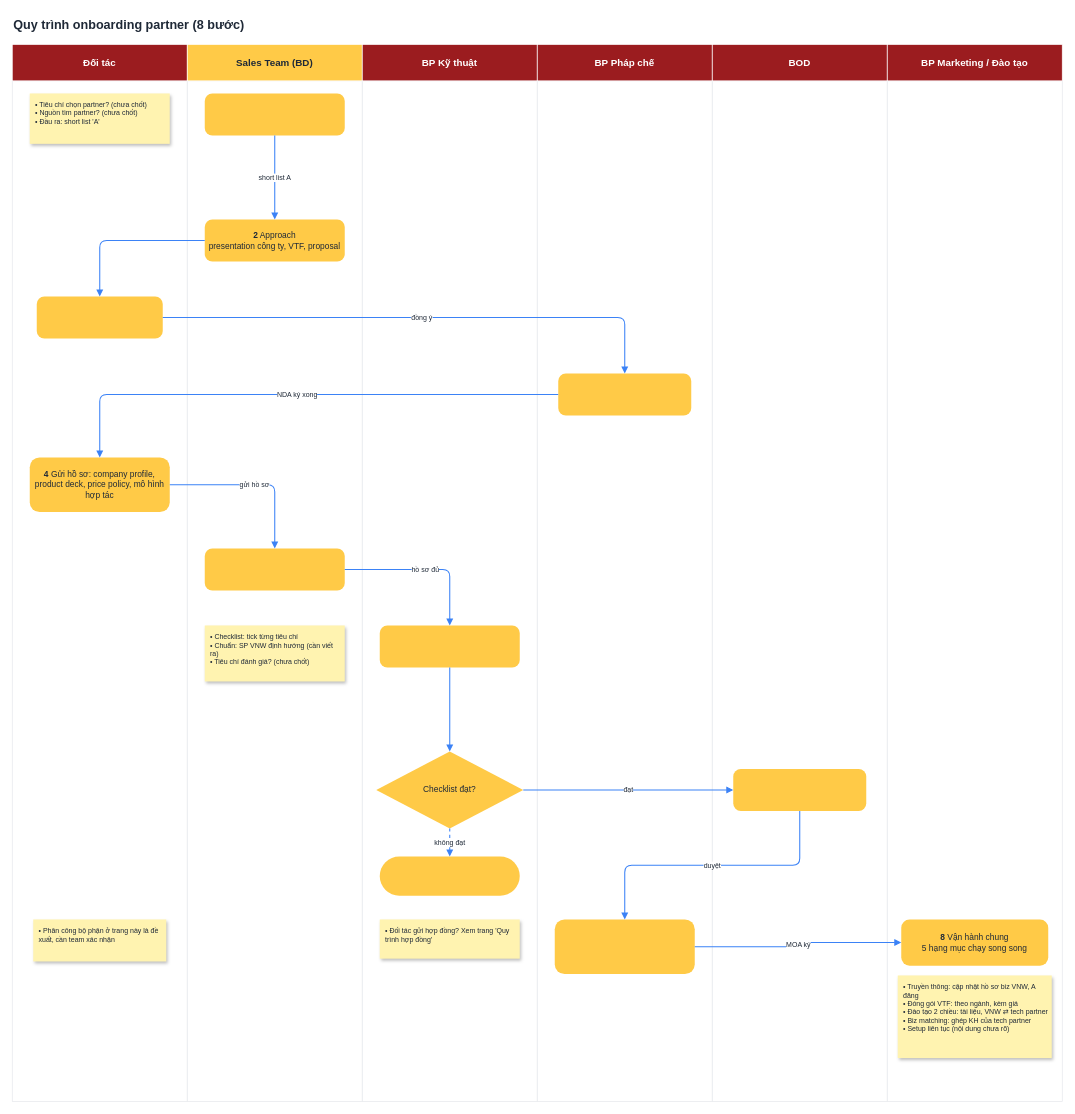
Image size: 1075x1114. Some labels were removed from this diagram. Each missing label, with the centre of its shape:
1 Sourcing chọn partner theo tiêu chí: pixel 274 114
3 NDA duyệt mẫu, ký hai bên: pixel 624 394
5 Tech meeting đánh giá tiềm năng hợp tác SP: pixel 449 646
6 Duyệt đi tiếp (giả định): pixel 799 790
7 MOA mô hình hợp tác, tài chính ($); soạn, rà, ký: pixel 624 946
Không đạt: loại, giữ trong pool (giả định): pixel 449 875
Quan tâm, đồng ý tìm hiểu tiếp: pixel 99 317
Rà hồ sơ đủ, sẵn sàng tech meeting: pixel 274 569
